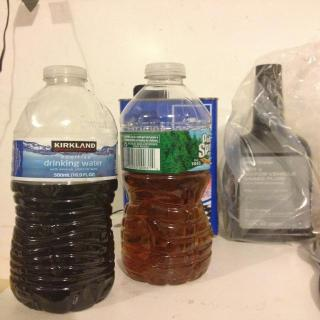Plastic-bottle: (8, 63, 122, 317), (115, 56, 216, 288)
